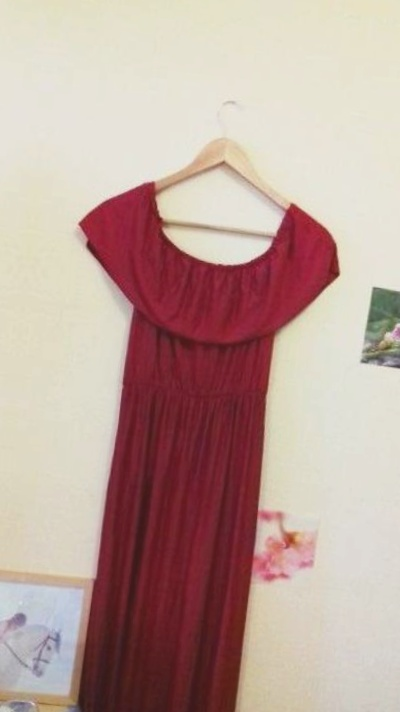Dress: (13, 105, 367, 712), (0, 66, 8, 712)
